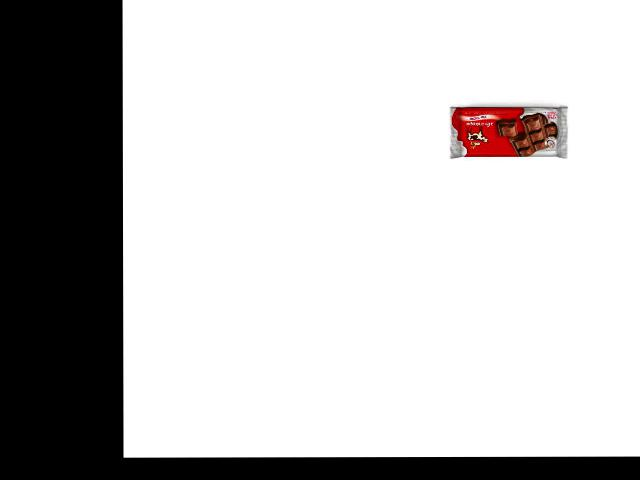chocolate: (448, 105, 571, 159)
